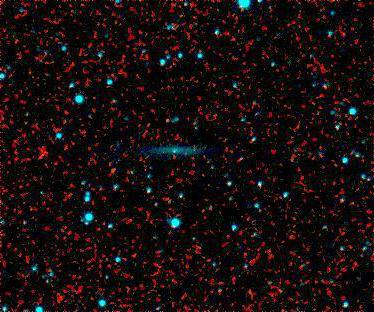star: (153, 108, 183, 138)
